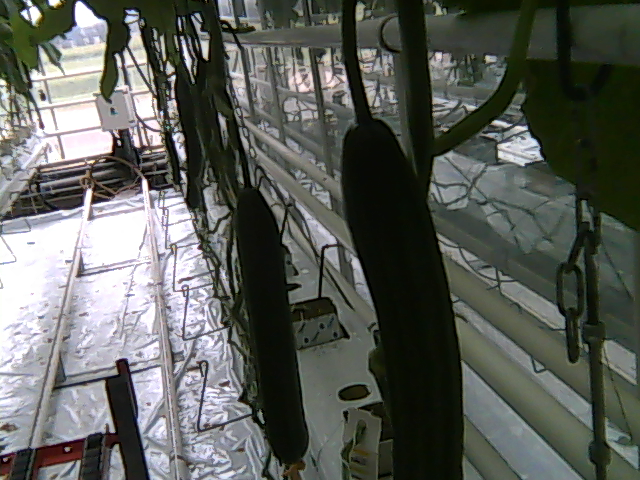concombre: (339, 105, 472, 480), (229, 180, 314, 480)
